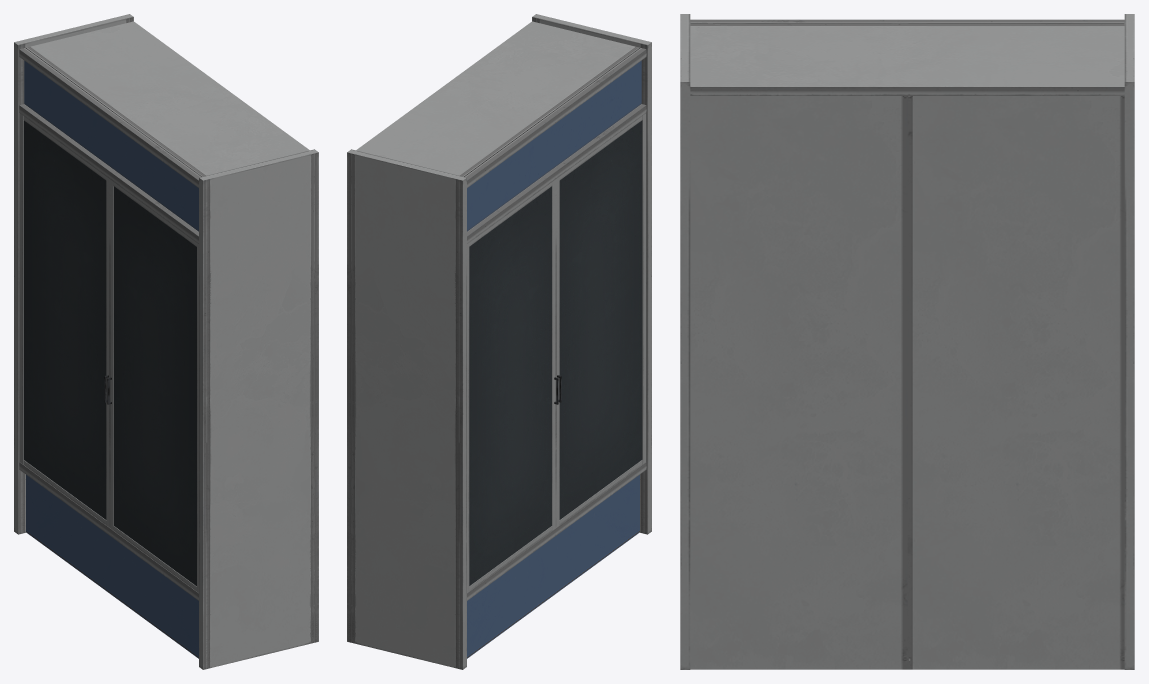
The model's file is HH_Glass_Medical_Cabinet.fbx.
3 renders of one model, left to right at view 1: azimuth 30°, elevation 25°; view 2: azimuth 150°, elevation 25°; view 3: azimuth 270°, elevation 25°, orthographic. The views are drawn at different scales.
Visible parts, largest first — view 1: HH_Glass_Medical_Cabinet, HH_Medical_Cabinet_Door_01, HH_Medical_Cabinet_Door_02; view 2: HH_Glass_Medical_Cabinet, HH_Medical_Cabinet_Door_02, HH_Medical_Cabinet_Door_01; view 3: HH_Glass_Medical_Cabinet.
Part boxes in pixels (bbox=[...]): HH_Glass_Medical_Cabinet: bbox=[14, 14, 318, 669]; HH_Medical_Cabinet_Door_01: bbox=[19, 113, 109, 527]; HH_Medical_Cabinet_Door_02: bbox=[107, 179, 198, 592]; HH_Glass_Medical_Cabinet: bbox=[347, 14, 651, 669]; HH_Medical_Cabinet_Door_02: bbox=[556, 113, 646, 527]; HH_Medical_Cabinet_Door_01: bbox=[467, 179, 558, 592]; HH_Glass_Medical_Cabinet: bbox=[680, 14, 1134, 669].
Bounding box in the file's own units: 55.46 × 219 × 154.
